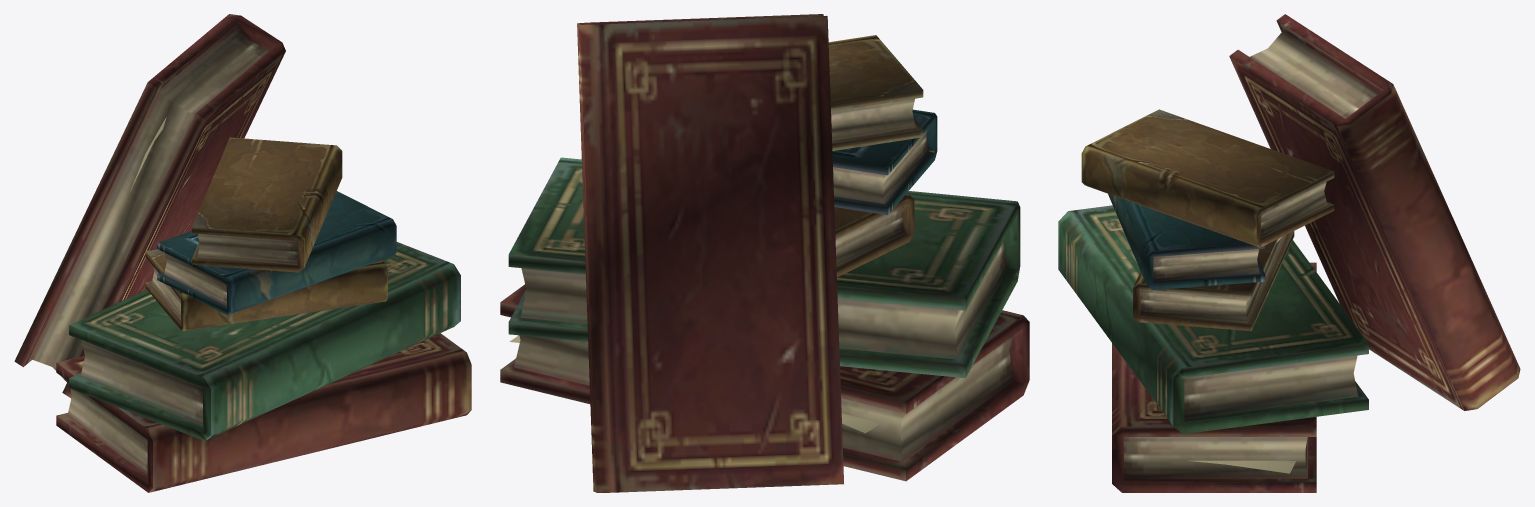
Rendered from generalbookstacktall01.obj.
3 views of the same model, side by side, from view 1: azimuth 30°, elevation 25°; view 2: azimuth 150°, elevation 25°; view 3: azimuth 270°, elevation 25° (orthographic). The views are drawn at different scales.
Visible parts, largest first — view 1: 1, 0; view 2: 1, 0; view 3: 1, 0.
Part boxes in pixels (x1=…): 1: x1=14, y1=14, x2=460, y2=440; 0: x1=56, y1=191, x2=471, y2=492; 1: x1=508, y1=14, x2=1020, y2=492; 0: x1=500, y1=109, x2=1029, y2=481; 1: x1=1058, y1=14, x2=1520, y2=434; 0: x1=1108, y1=194, x2=1316, y2=492.
Size of the model in its own units: 0.7955 by 0.7208 by 0.8518.
Materials: 1 (1 with a texture image).
